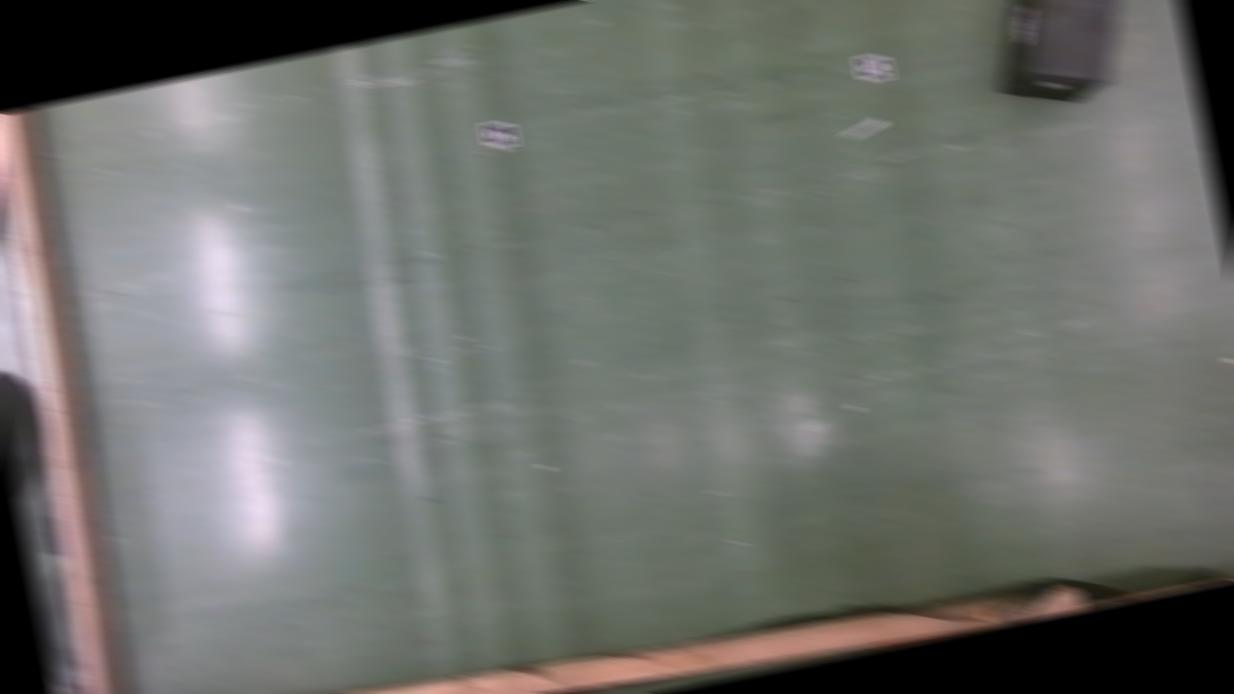probes: (840, 117, 886, 140)
rako: (974, 0, 1147, 117)
